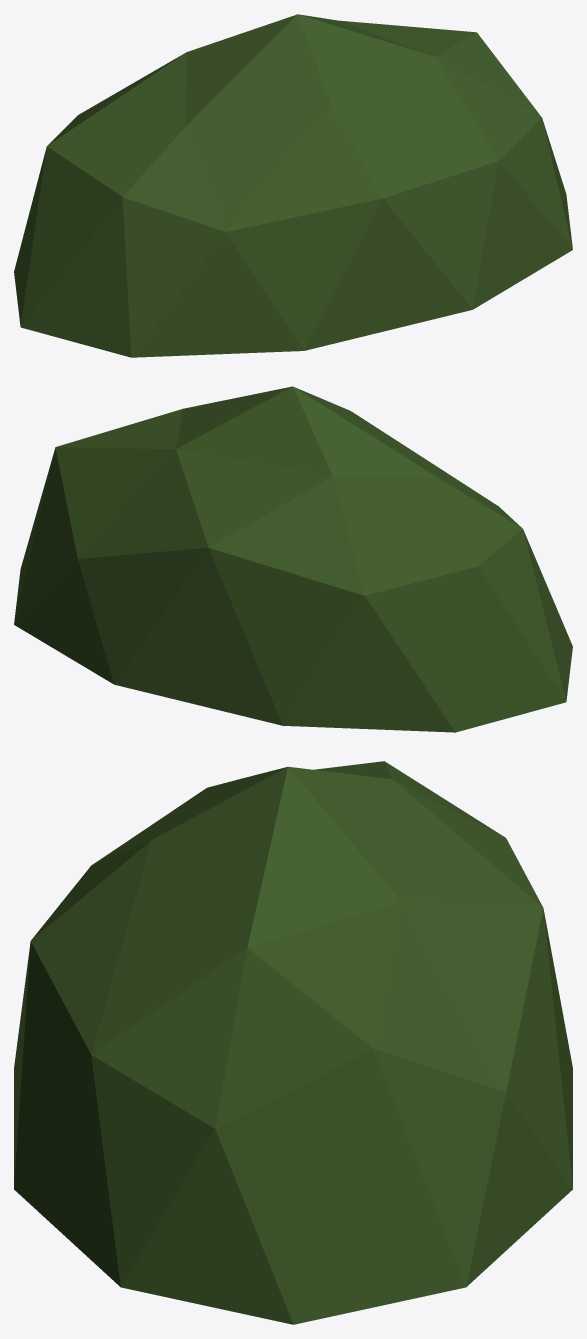
Rendered from Bush1.fbx.
The picture shows the model from 3 angles, top to bottom: view 1: azimuth 30°, elevation 25°; view 2: azimuth 150°, elevation 25°; view 3: azimuth 270°, elevation 25°; orthographic projection. The views are drawn at different scales.
Visible parts, largest first — view 1: Bush1; view 2: Bush1; view 3: Bush1.
Part boxes in pixels (<box>): Bush1: <box>14,14,572,357</box>; Bush1: <box>14,386,572,732</box>; Bush1: <box>14,761,572,1324</box>.
Size of the model in its own units: 1.76 by 0.7604 by 1.06.
